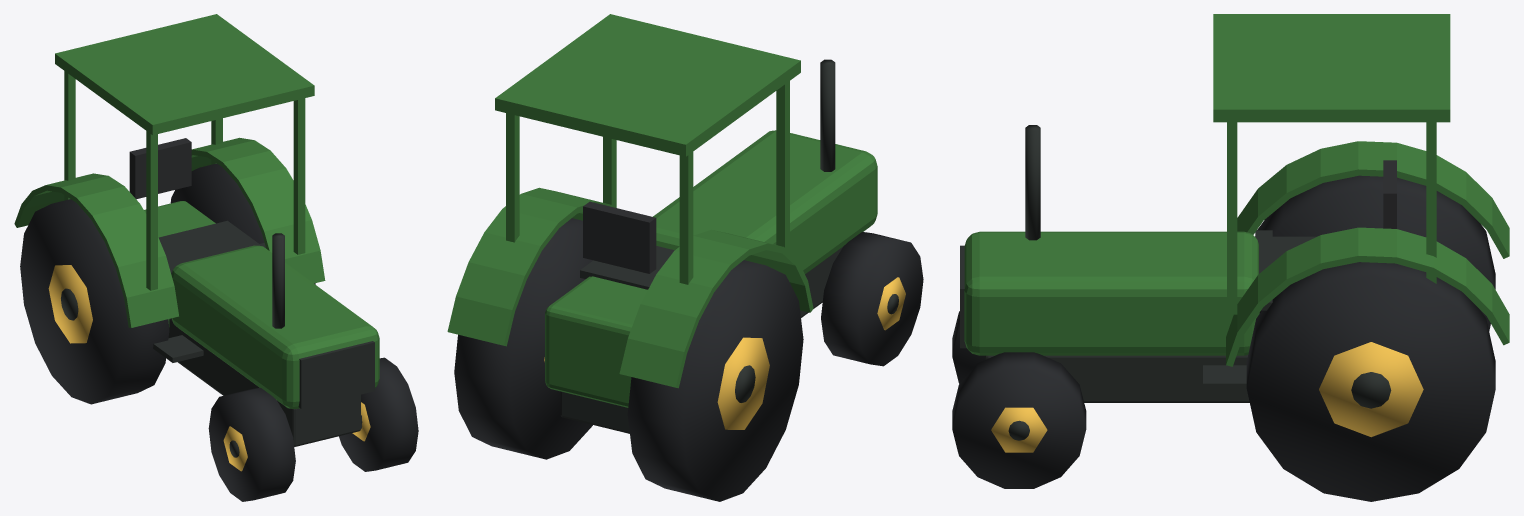
Rendered from tractor.far.glb.
3 views of the same model, side by side, from view 1: azimuth 30°, elevation 25°; view 2: azimuth 150°, elevation 25°; view 3: azimuth 270°, elevation 25° (orthographic). The views are drawn at different scales.
Visible parts, largest first — view 1: tractor_far; view 2: tractor_far; view 3: tractor_far.
Part boxes in pixels (x1,y1,x2,y2): tractor_far: (14, 14, 418, 501); tractor_far: (447, 14, 923, 501); tractor_far: (952, 14, 1509, 501).
Bounding box in the file's own units: 1.62 × 2.46 × 3.25.
